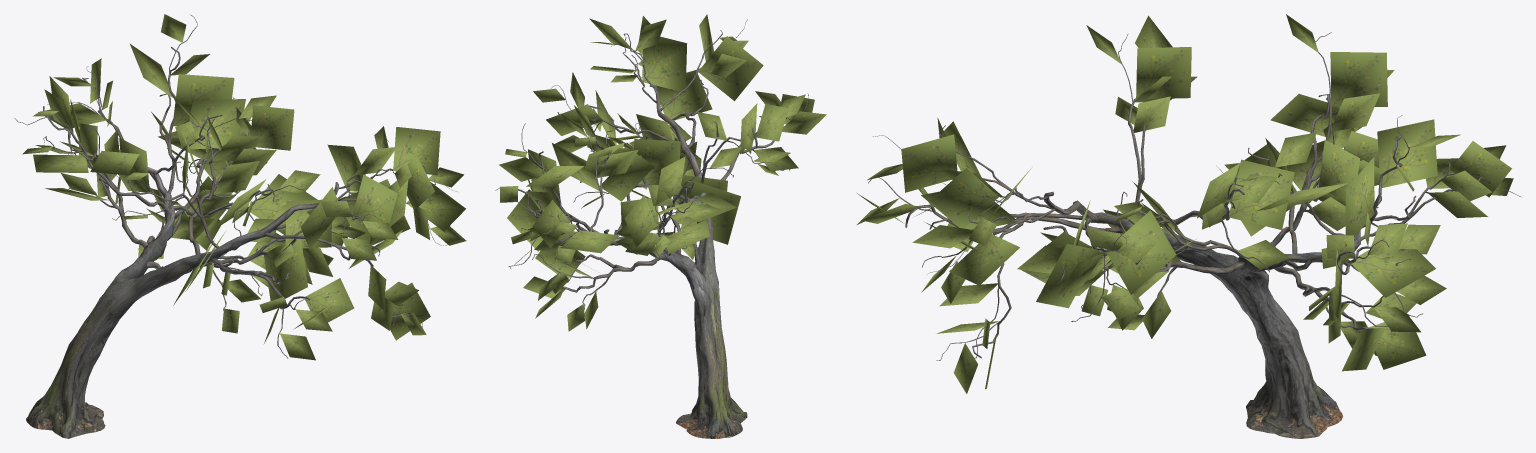
The model's file is sm_TreeDead_01_03.fbx.
3 views of the same model, side by side, from view 1: azimuth 30°, elevation 25°; view 2: azimuth 150°, elevation 25°; view 3: azimuth 270°, elevation 25° (orthographic). The views are drawn at different scales.
Parts seen in each view (by area): view 1: sm_TreeDead_01_03_LOD0; view 2: sm_TreeDead_01_03_LOD0; view 3: sm_TreeDead_01_03_LOD0.
Part boxes in pixels (x1,y1,x2,y2): sm_TreeDead_01_03_LOD0: (14, 14, 466, 438); sm_TreeDead_01_03_LOD0: (495, 14, 826, 438); sm_TreeDead_01_03_LOD0: (857, 14, 1521, 438).
Bounding box in the file's own units: 582 × 903 × 601.
